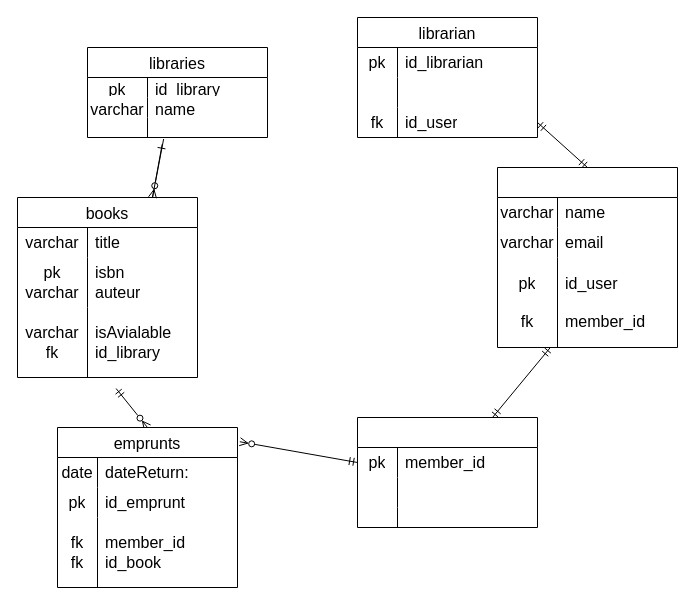
Image size: 695x605. Some labels were removed from this diagram. Each missing label, with the box of its shape:
members: (356, 416, 538, 528)
users: (496, 166, 678, 348)
